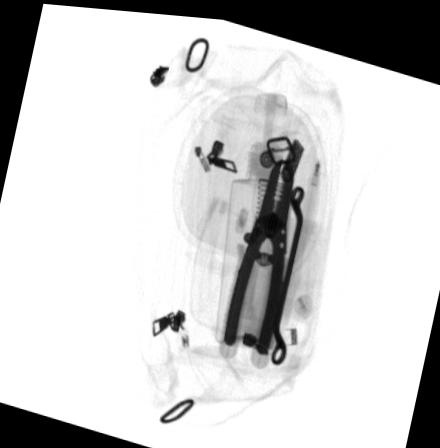Pliers: (221, 153, 292, 350)
Wrench: (268, 179, 304, 360)
